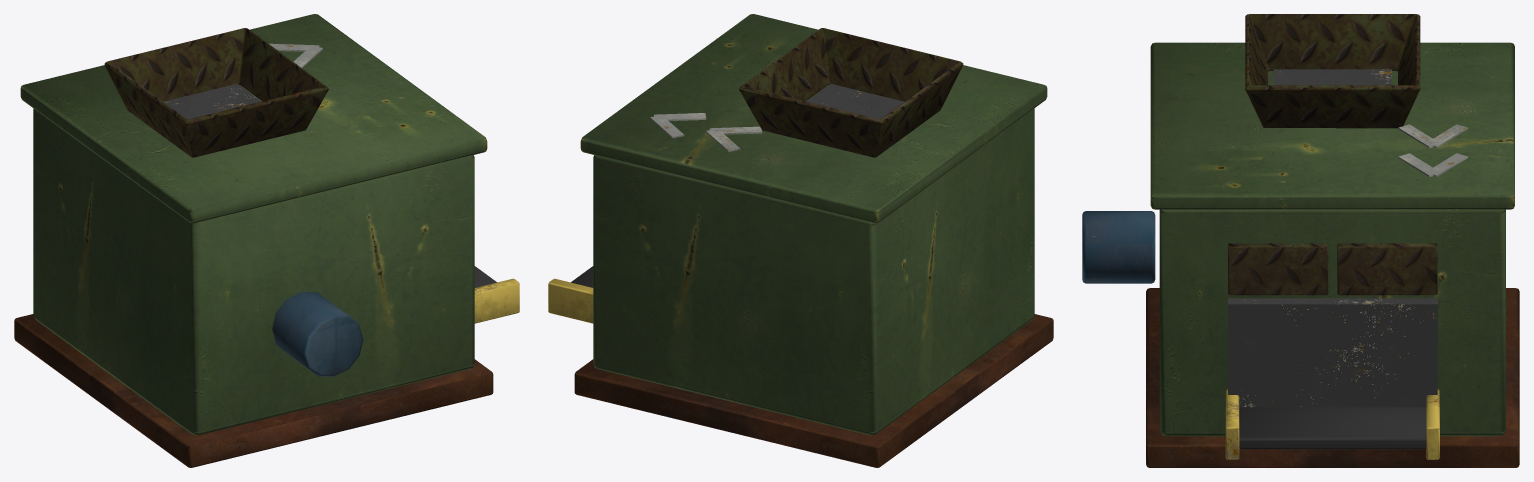
The model's file is deploy_conveyor.glb.
3 views of the same model, side by side, from view 1: azimuth 30°, elevation 25°; view 2: azimuth 150°, elevation 25°; view 3: azimuth 270°, elevation 25° (orthographic). The views are drawn at different scales.
Parts seen in each view (by area): view 1: box.001, box.002, cyl, box, cyl.001, box.003, box.006; view 2: box.001, box.002, cyl, box, box.003, box.007; view 3: box.002, box.001, box.004, cyl, box, box.005, cyl.001, box.009, box.008, box.003, box.006, box.007.
Boxes of the visible parts, x1,y1,x2,y2 form: box.001: (33, 108, 474, 435); box.002: (20, 14, 487, 223); cyl: (104, 28, 328, 157); box: (14, 314, 493, 467); cyl.001: (272, 291, 363, 376); box.003: (163, 84, 260, 119); box.006: (474, 278, 519, 323); box.001: (593, 108, 1034, 435); box.002: (580, 14, 1047, 223); cyl: (739, 28, 963, 157); box: (574, 314, 1053, 467); box.003: (807, 84, 904, 119); box.007: (548, 278, 593, 323); box.002: (1150, 42, 1514, 209); box.001: (1159, 209, 1505, 436); box.004: (1228, 298, 1437, 407); cyl: (1245, 14, 1420, 128); box: (1146, 288, 1519, 467); box.005: (1239, 407, 1426, 449); cyl.001: (1082, 211, 1155, 283); box.009: (1337, 243, 1437, 295); box.008: (1228, 243, 1328, 295); box.003: (1273, 69, 1391, 85); box.006: (1225, 389, 1239, 459); box.007: (1426, 389, 1439, 459).
Size of the model in its own units: 0.99 by 0.7783 by 0.96.
Materials: 8 (7 with a texture image).
